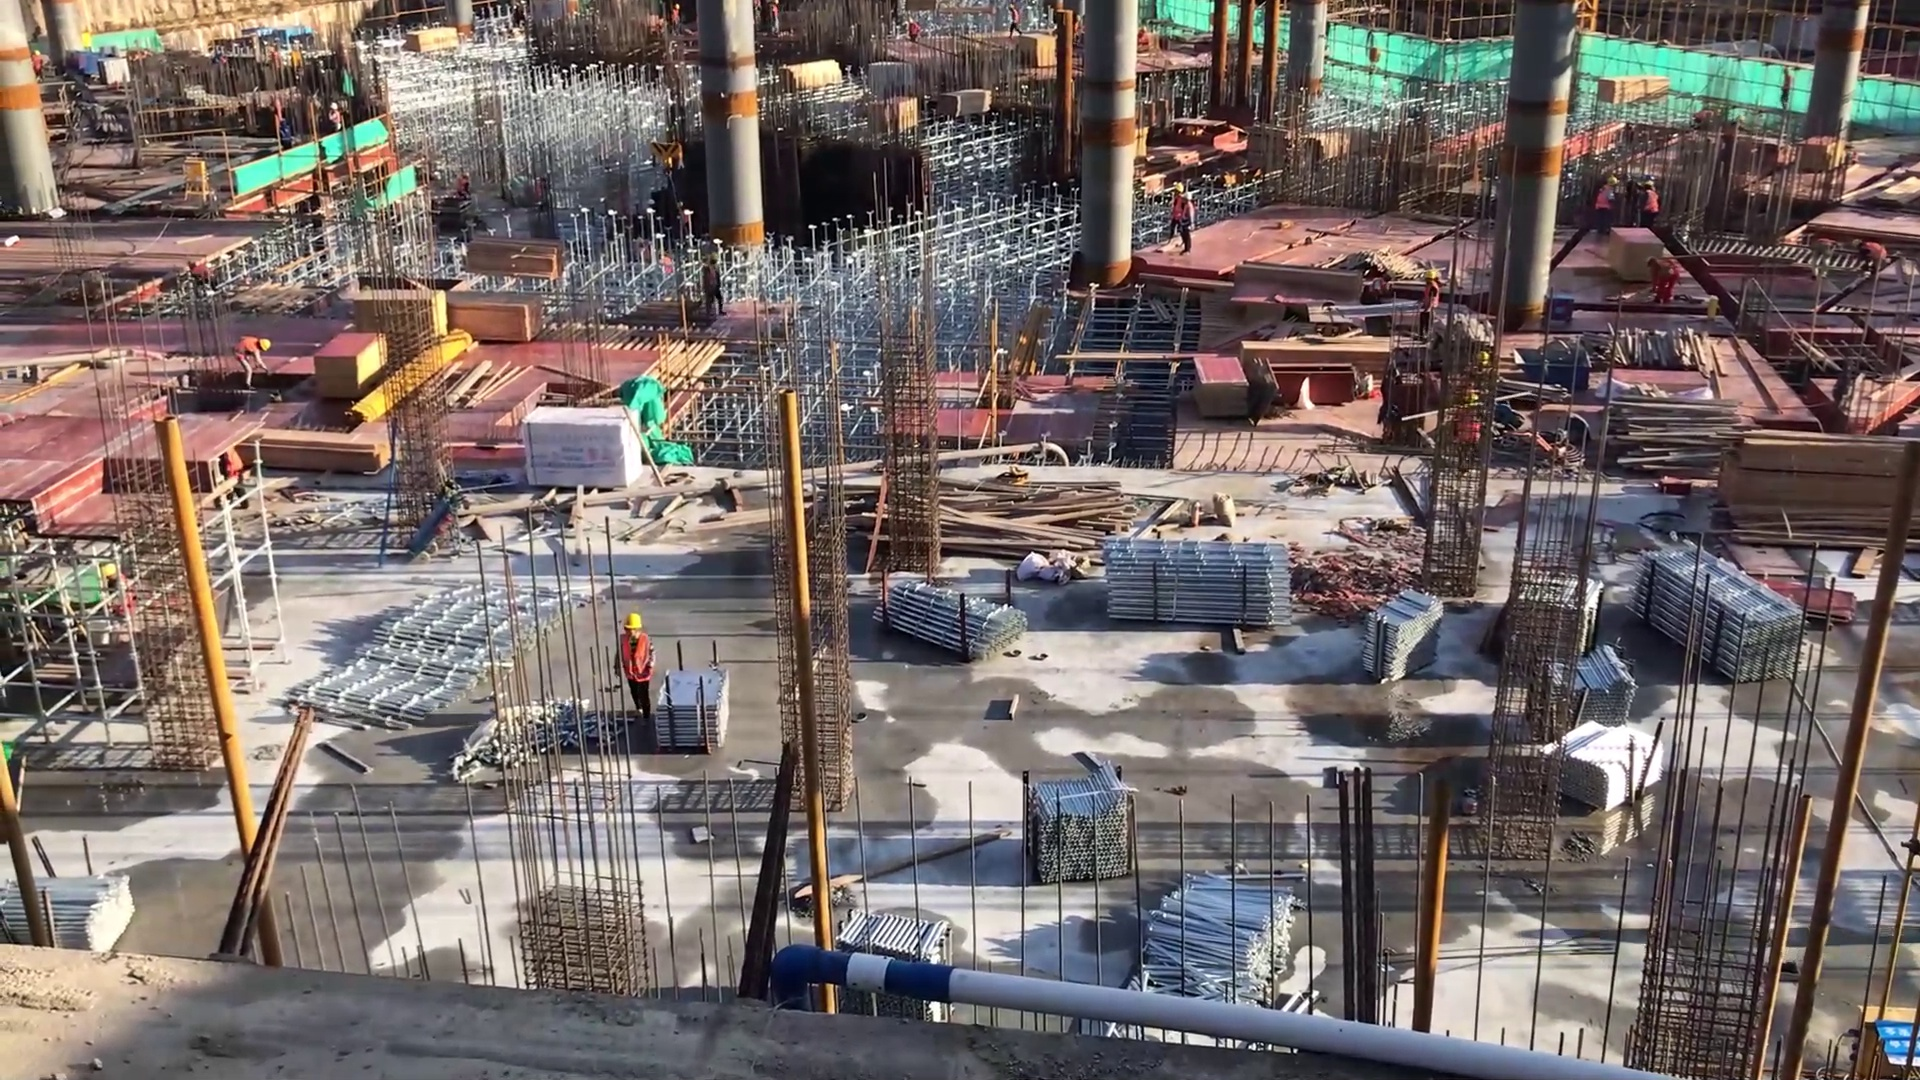board: (308, 330, 387, 403), (1755, 576, 1858, 629), (1188, 352, 1253, 428), (353, 292, 445, 341), (1016, 33, 1064, 69)
ebox: (181, 156, 215, 219)
helmet: (618, 611, 649, 635), (256, 334, 273, 356), (102, 563, 118, 579), (1606, 175, 1620, 190), (1476, 350, 1489, 363), (1181, 191, 1194, 203), (1173, 183, 1185, 194), (1424, 269, 1436, 279), (330, 101, 338, 112)
hook: (1511, 348, 1598, 401)
person: (611, 610, 659, 727), (233, 333, 275, 390), (220, 441, 252, 511), (1850, 234, 1889, 288), (1590, 173, 1622, 238), (186, 252, 224, 305), (1647, 254, 1682, 304), (1358, 264, 1398, 307), (704, 252, 728, 317), (1420, 267, 1439, 346), (1637, 177, 1660, 235), (1180, 191, 1197, 259), (1170, 181, 1186, 246), (329, 99, 349, 140), (1781, 65, 1797, 114), (30, 47, 49, 86), (458, 171, 476, 208)
scaffold: (1631, 539, 1820, 684), (1150, 869, 1300, 1037), (1094, 528, 1305, 635), (1009, 762, 1156, 896), (798, 910, 958, 1019), (1, 860, 144, 961), (880, 574, 1030, 666), (1529, 648, 1638, 739), (1361, 591, 1450, 689)
vest: (619, 634, 657, 685), (1595, 184, 1618, 218), (236, 334, 258, 364), (1422, 279, 1440, 312), (1181, 203, 1197, 235), (1643, 189, 1660, 218)
wood: (1701, 426, 1920, 549), (937, 477, 1136, 563), (1607, 390, 1750, 479), (247, 429, 391, 477), (1230, 333, 1406, 373), (443, 287, 546, 342), (464, 238, 567, 279), (1591, 67, 1679, 113), (773, 56, 845, 97), (939, 88, 993, 120)
